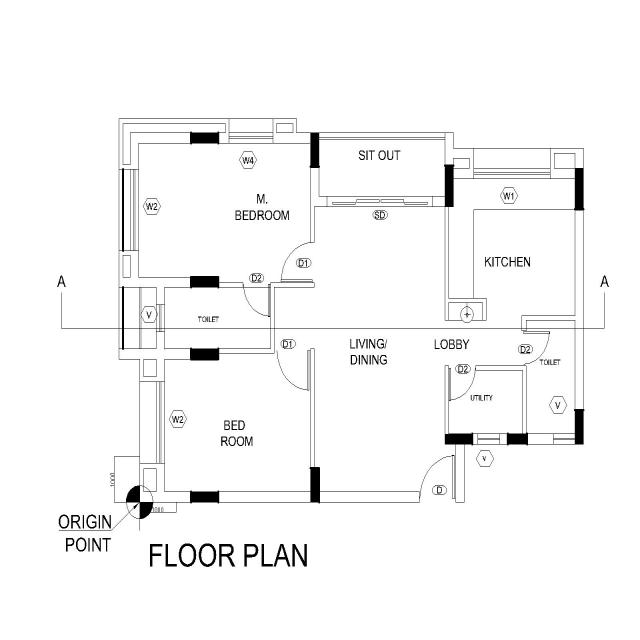Column: (443, 163, 455, 208), (574, 166, 585, 212), (189, 274, 220, 290), (309, 466, 322, 504), (190, 346, 220, 362), (190, 490, 220, 506), (190, 131, 220, 145), (444, 432, 474, 446), (574, 408, 585, 446), (310, 132, 320, 168), (506, 432, 529, 446)
Door: (414, 489, 467, 505), (273, 344, 313, 356), (309, 238, 316, 290), (520, 326, 528, 370), (444, 364, 479, 372), (241, 281, 272, 289)
Sliding Door: (326, 193, 434, 210)
Ventilator: (476, 432, 502, 446), (552, 432, 576, 446), (155, 303, 166, 333)
Window: (472, 167, 552, 181), (129, 168, 140, 252), (155, 380, 166, 464), (228, 131, 274, 145)
